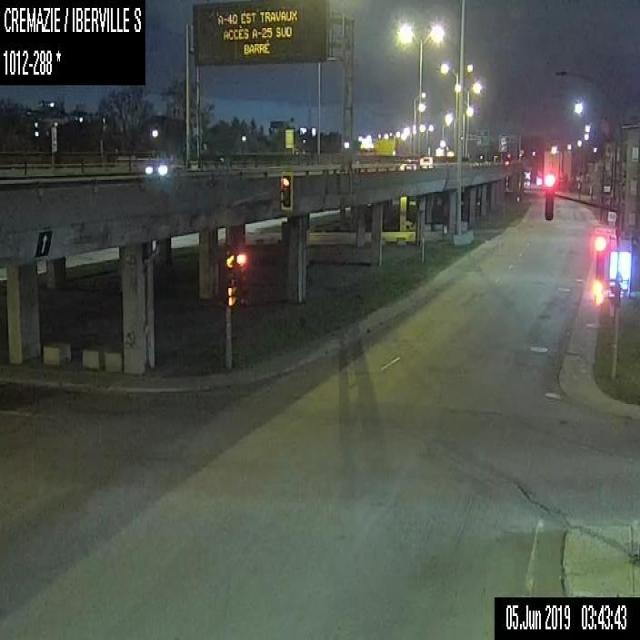vehicle: (399, 155, 420, 170), (418, 156, 436, 170)
